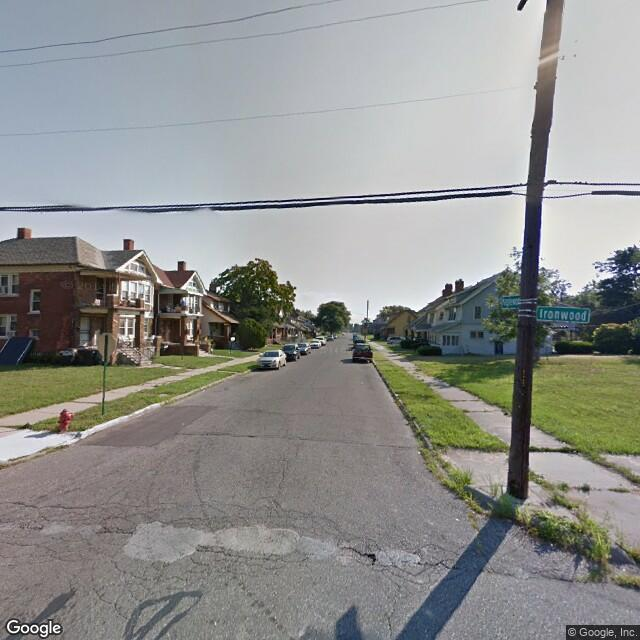litter: (413, 448, 426, 460)
